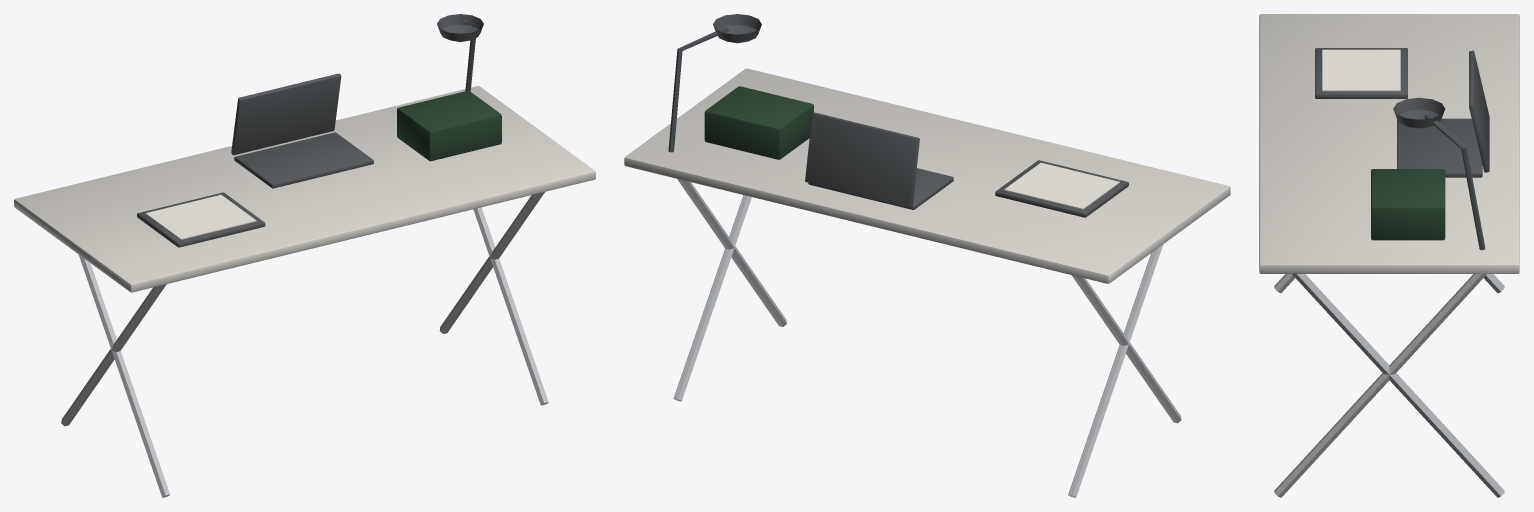
The model's file is marlin_trestle.glb.
3 renders of one model, left to right at view 1: azimuth 30°, elevation 25°; view 2: azimuth 150°, elevation 25°; view 3: azimuth 270°, elevation 25°, orthographic. The views are drawn at different scales.
Visible parts, largest first — view 1: marlin_trestle; view 2: marlin_trestle; view 3: marlin_trestle.
Part boxes in pixels (x1,y1,x2,y2): marlin_trestle: (14, 14, 595, 497); marlin_trestle: (624, 14, 1230, 497); marlin_trestle: (1259, 14, 1519, 497).
Bounding box in the file's own units: 1.6 × 1.12 × 0.7.
